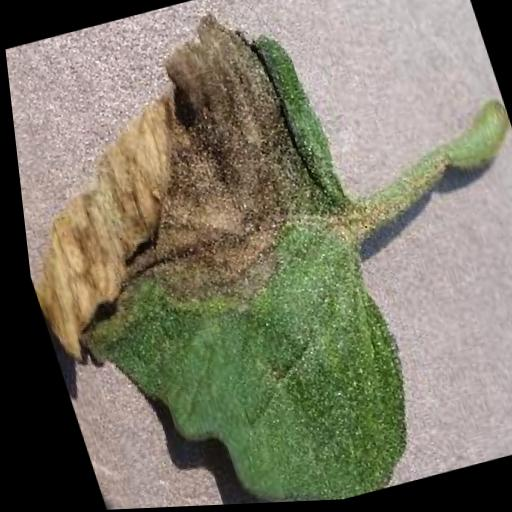Late Blight: (1, 0, 428, 512)
